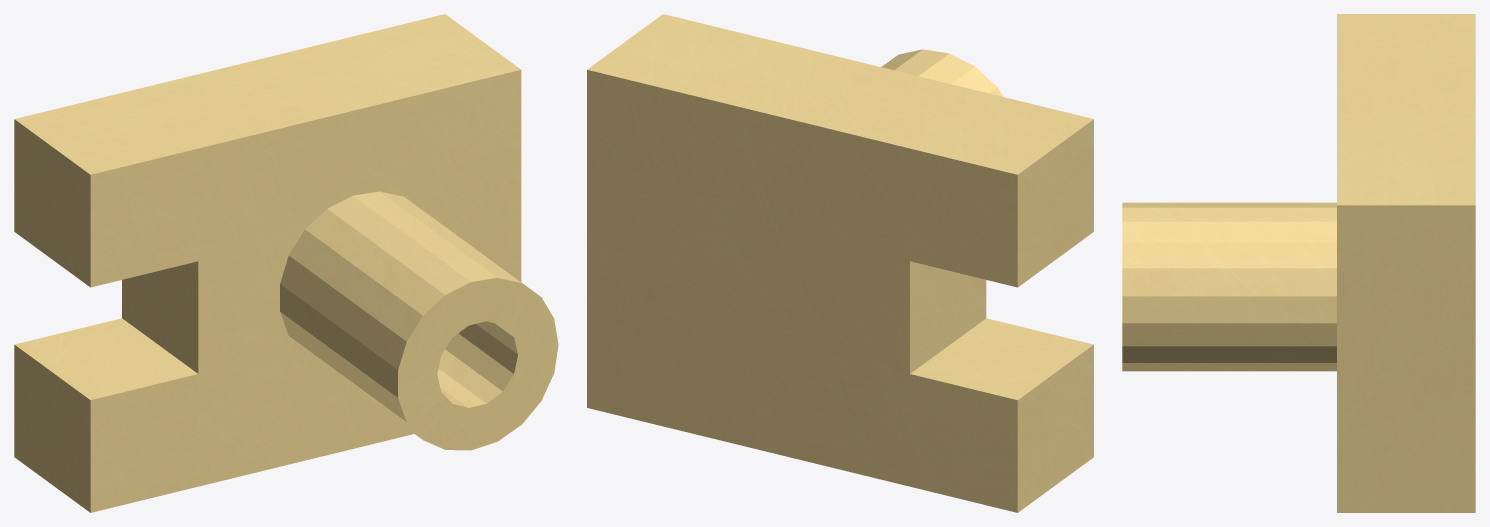
The picture shows the model from 3 angles, left to right: view 1: azimuth 30°, elevation 25°; view 2: azimuth 150°, elevation 25°; view 3: azimuth 270°, elevation 25°; orthographic projection. The views are drawn at different scales.
Visible parts, largest first — view 1: Деталь 1; view 2: Деталь 1; view 3: Деталь 1.
Part boxes in pixels (<box>): Деталь 1: <box>14,14,558,512</box>; Деталь 1: <box>587,14,1093,512</box>; Деталь 1: <box>1122,14,1475,512</box>.
Size of the model in its own units: 40 by 30 by 31.23.
Materials: 1 (1 with a texture image).
